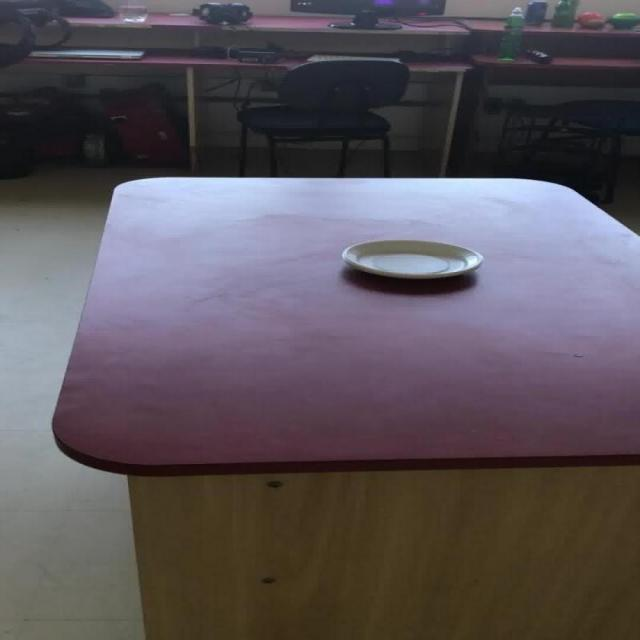Plate: (340, 239, 483, 280)
